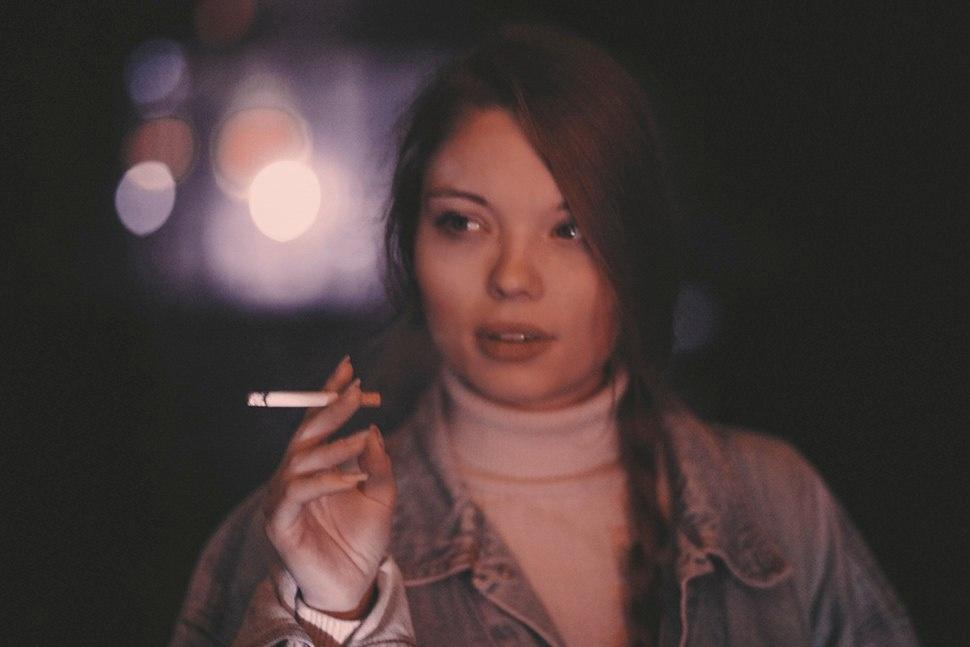cigarette: (247, 392, 381, 407)
